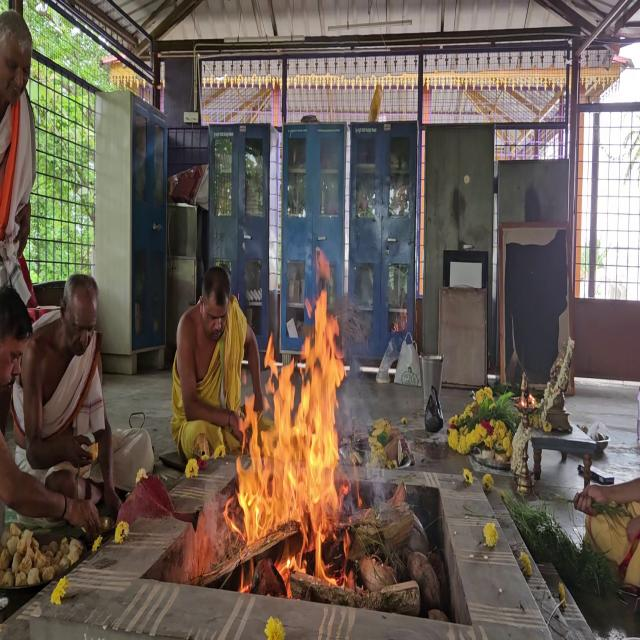fire: (205, 248, 361, 602)
